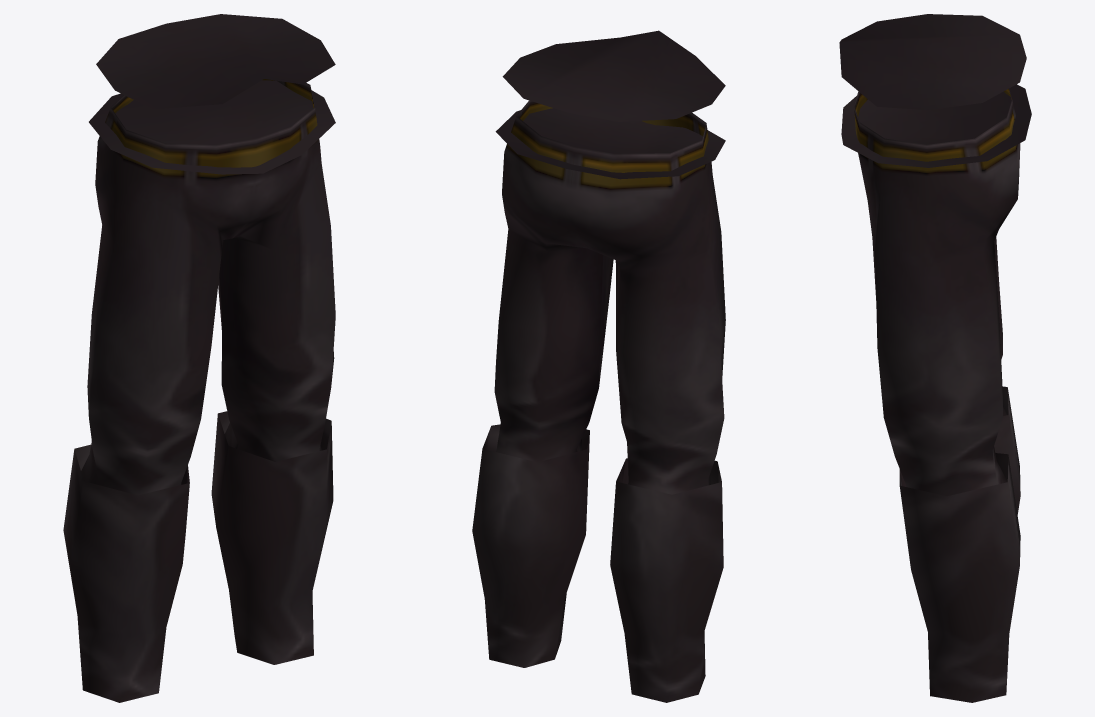
Rendered from hum_caster_02_8689a309.glb.
The picture shows the model from 3 angles, left to right: view 1: azimuth 30°, elevation 25°; view 2: azimuth 150°, elevation 25°; view 3: azimuth 270°, elevation 25°; orthographic projection. The views are drawn at different scales.
Size of the model in its own units: 0.7702 by 1.44 by 0.5569.
1 material, 1 textured.
